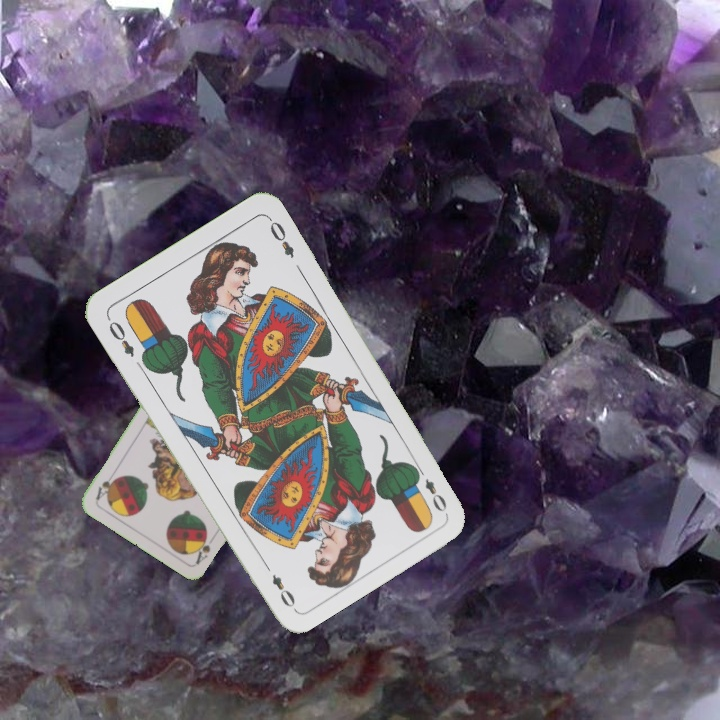EO: (411, 462, 450, 515), (103, 313, 137, 360)
SA: (192, 530, 219, 567)
